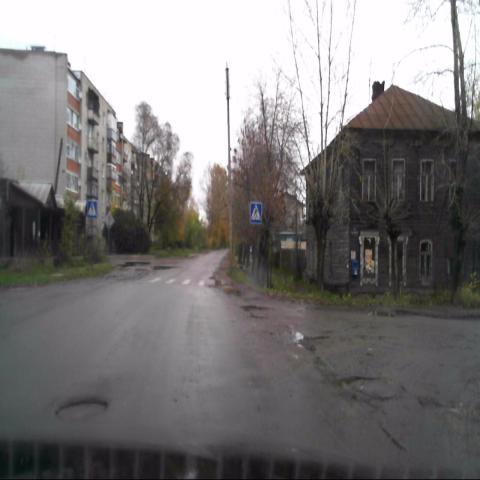5_19_1: (250, 201, 262, 224), (87, 200, 98, 218)
